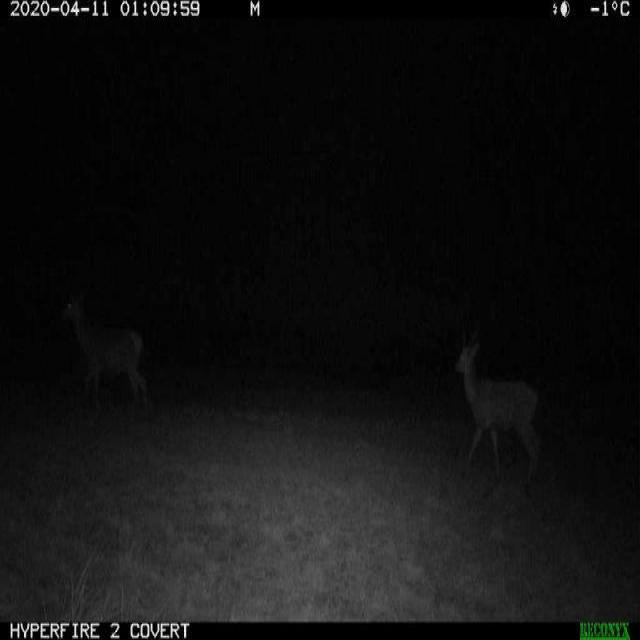deer: (446, 317, 554, 511), (46, 274, 154, 441)
